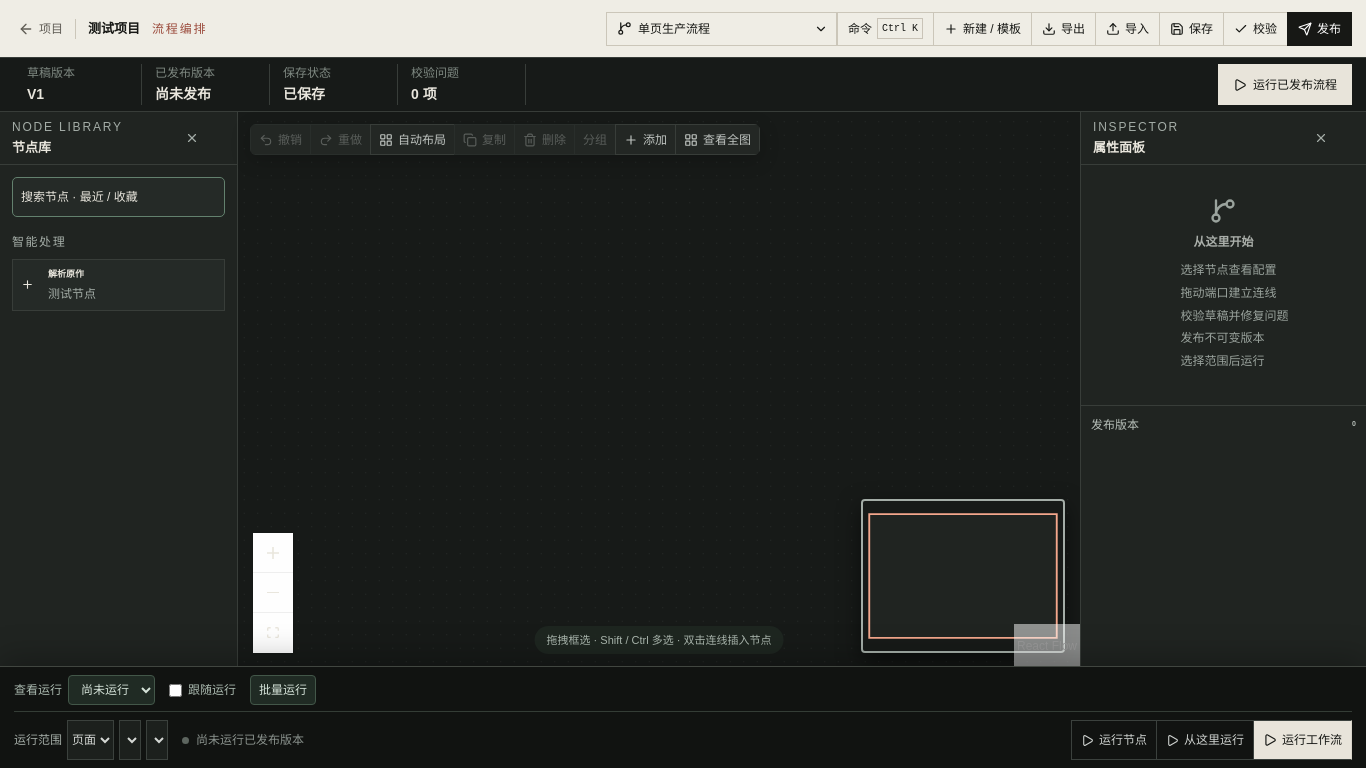
WorkflowStudio 草稿保存与发布 › 文本模型下拉始终提供自动路由选项，默认 auto 不再显示为空白
Click the button "解析原作 测试节点": (118, 285) [12, 259, 225, 311]
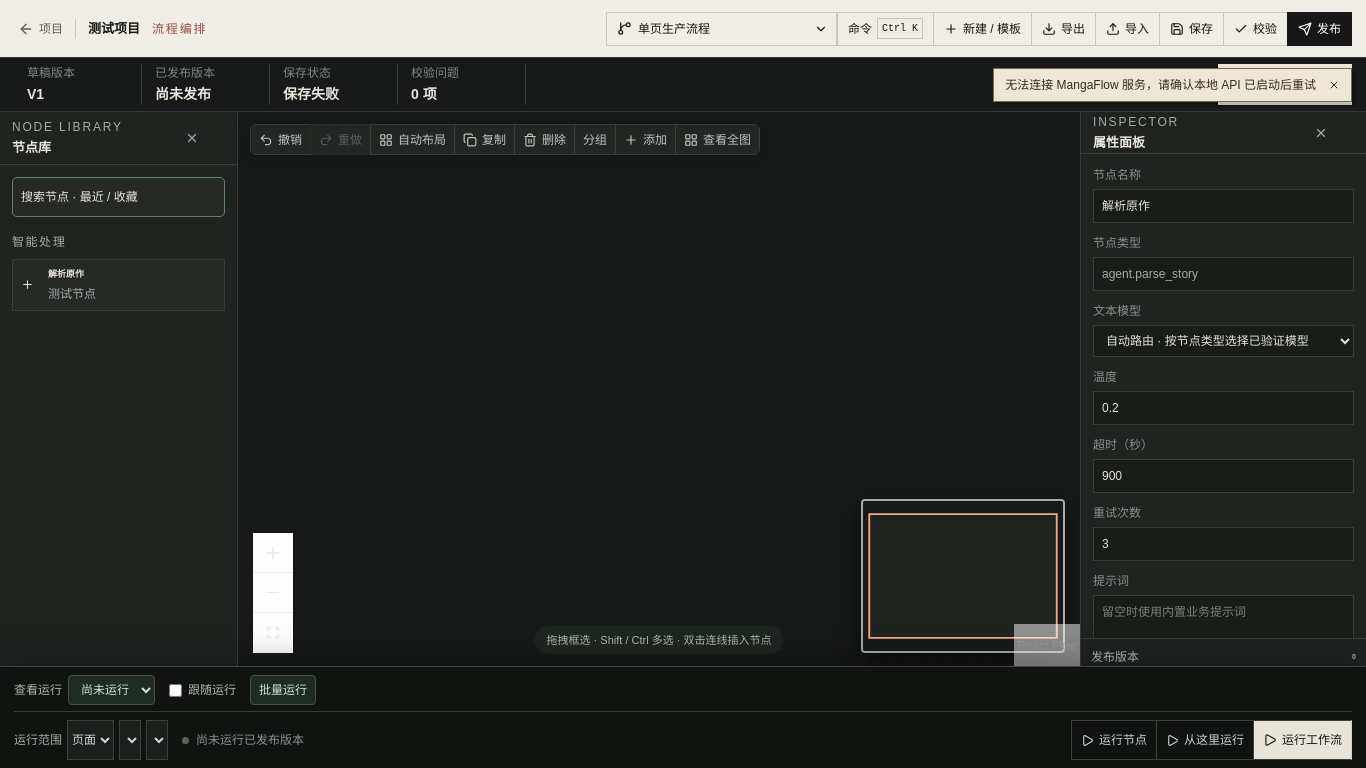
Result: the dropdown labelled "文本模型" shows "自动路由 · 按节点类型选择已验证模型" at [1093, 325, 1354, 357]
